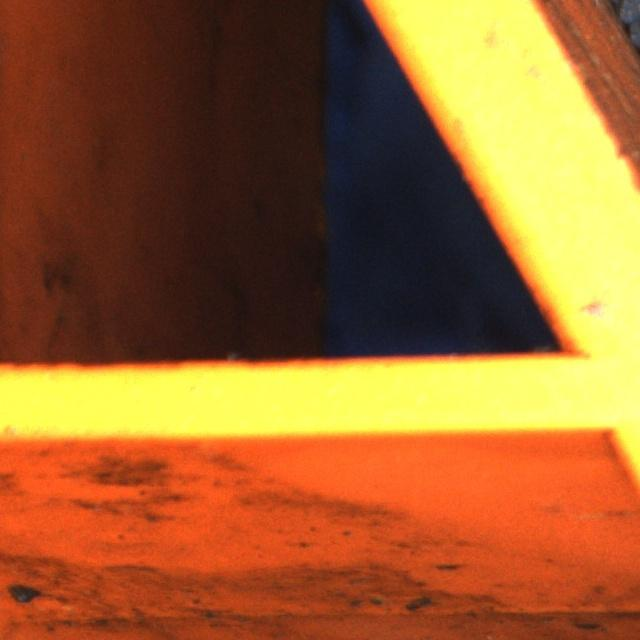tool: (617, 0, 640, 23), (626, 16, 640, 46)
